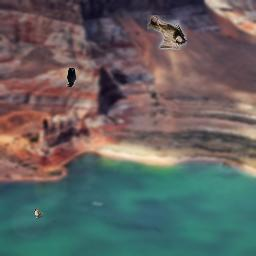Crow: (66, 68, 76, 87)
Sparrow: (147, 15, 187, 50), (34, 209, 45, 219)
